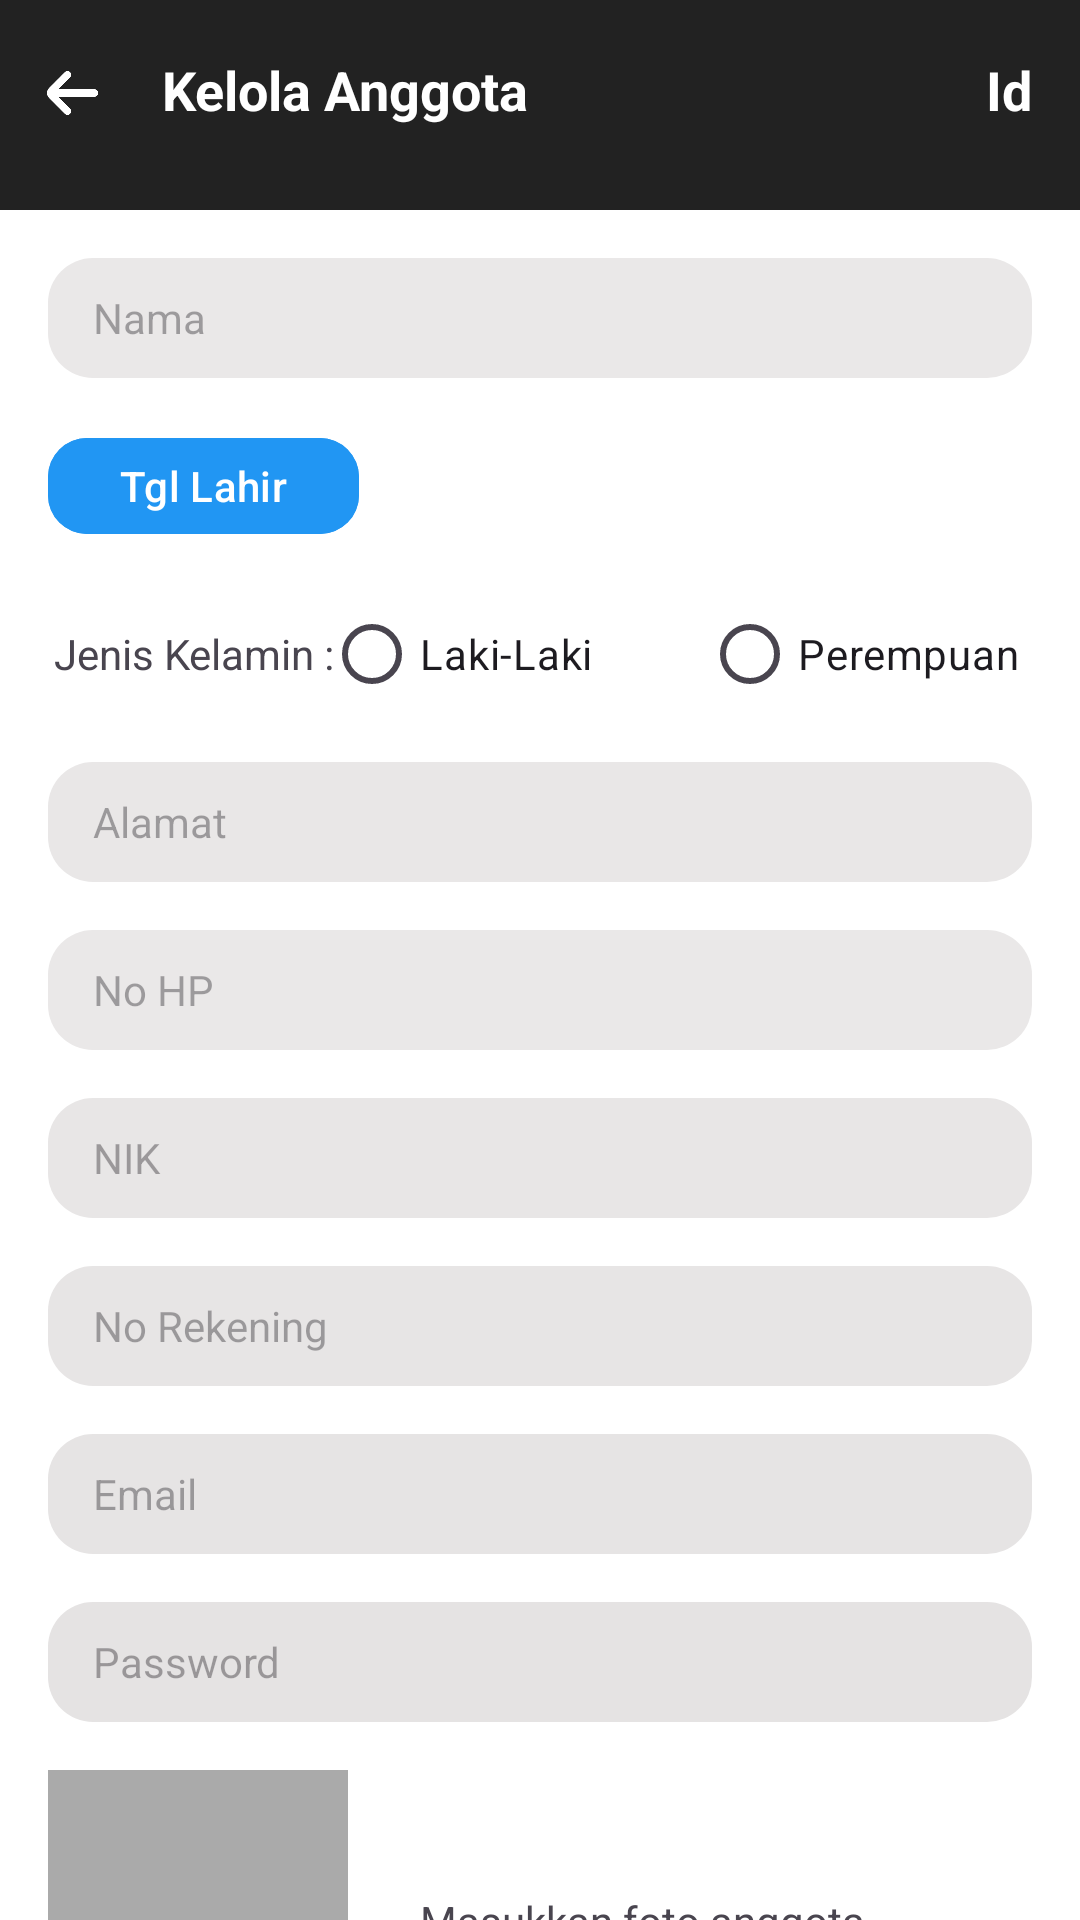

Screen size 1080 x 1920. Icon name, then its center in pixels as point (x, y):
arrow: point (72, 93)
